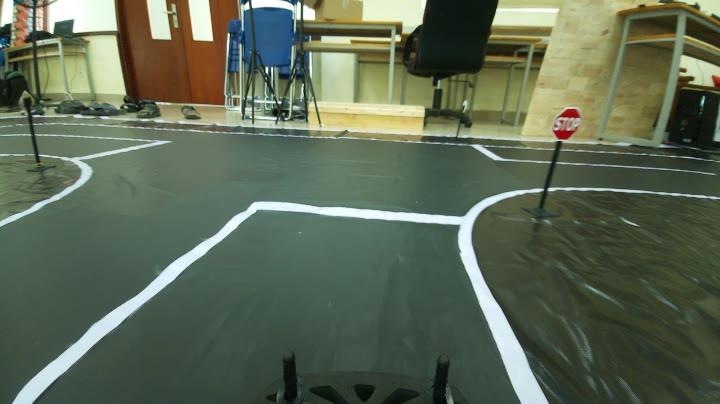stop: (548, 104, 593, 144)
